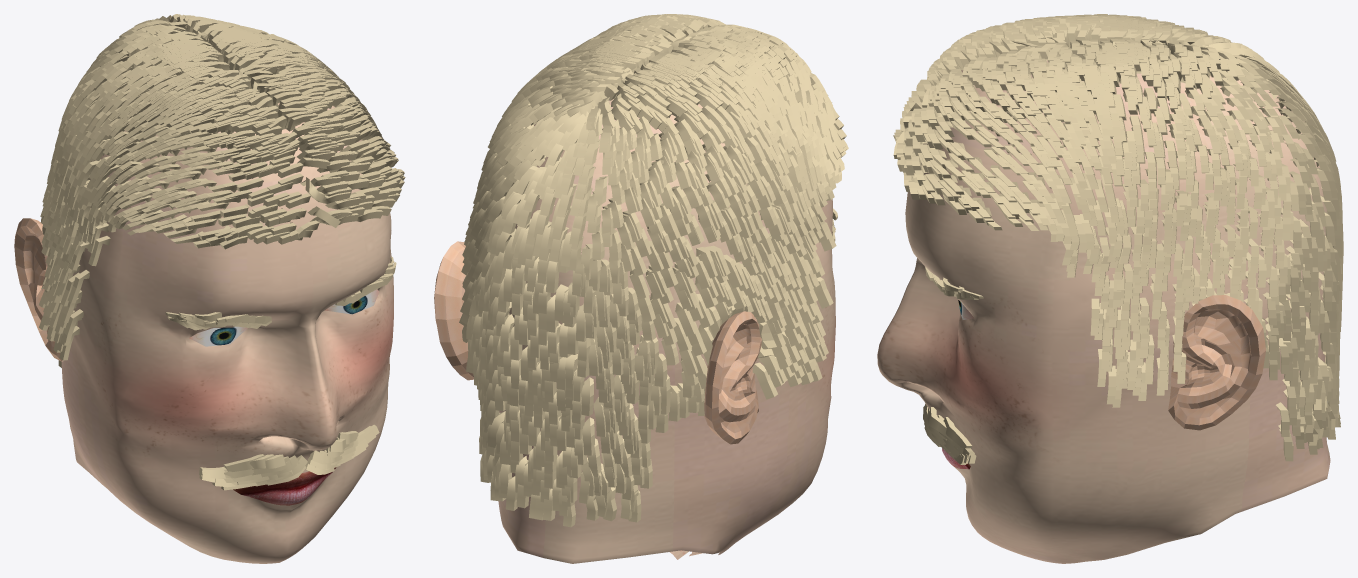
The model's file is HuvudAlexvig.fbx.
3 views of the same model, side by side, from view 1: azimuth 30°, elevation 25°; view 2: azimuth 150°, elevation 25°; view 3: azimuth 270°, elevation 25° (orthographic). The views are drawn at different scales.
Parts seen in each view (by area): view 1: pasted__pCube3, pasted__polySurface1912, description1_convert1, pasted__Öra2, description1_convert2; view 2: pasted__polySurface1912, pasted__pCube3, pasted__Öra2, pasted__Öra1; view 3: pasted__polySurface1912, pasted__pCube3, pasted__Öra1, description1_convert1, description1_convert2.
Part boxes in pixels (box(x1,y1,x2,y2)): pasted__pCube3: box(61, 39, 393, 563); pasted__polySurface1912: box(39, 14, 405, 367); description1_convert1: box(199, 424, 379, 490); pasted__Öra2: box(14, 218, 62, 361); description1_convert2: box(165, 256, 396, 330); pasted__polySurface1912: box(459, 14, 848, 527); pasted__pCube3: box(498, 99, 835, 563); pasted__Öra2: box(704, 311, 761, 444); pasted__Öra1: box(434, 241, 473, 380); pasted__polySurface1912: box(893, 14, 1343, 461); pasted__pCube3: box(877, 60, 1330, 563); pasted__Öra1: box(1168, 295, 1265, 430); description1_convert1: box(923, 404, 976, 464); description1_convert2: box(925, 267, 983, 299).
Size of the model in its own units: 1.19 by 1.7 by 1.41.
Materials: 5 (4 with a texture image).
